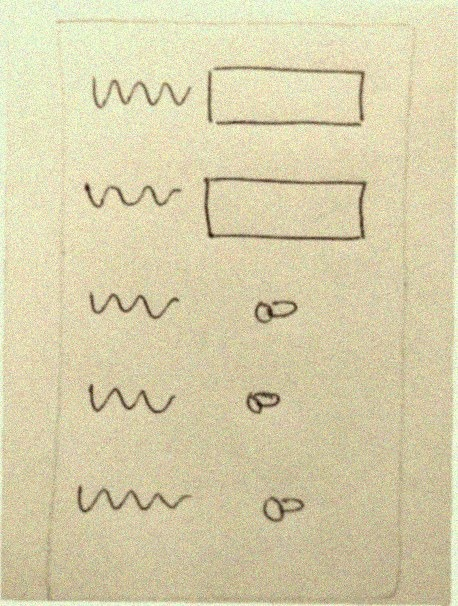image: (69, 471, 197, 524), (81, 369, 182, 426), (79, 171, 189, 221), (85, 278, 182, 325)
switch: (252, 485, 315, 527), (247, 287, 305, 332), (242, 380, 291, 423)
text: (80, 64, 195, 118)
text_input: (199, 169, 372, 252), (202, 56, 373, 138)
